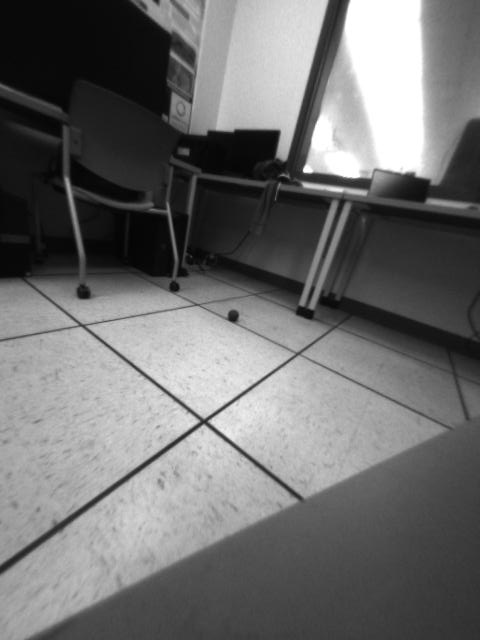dogtoy: (222, 304, 245, 325)
